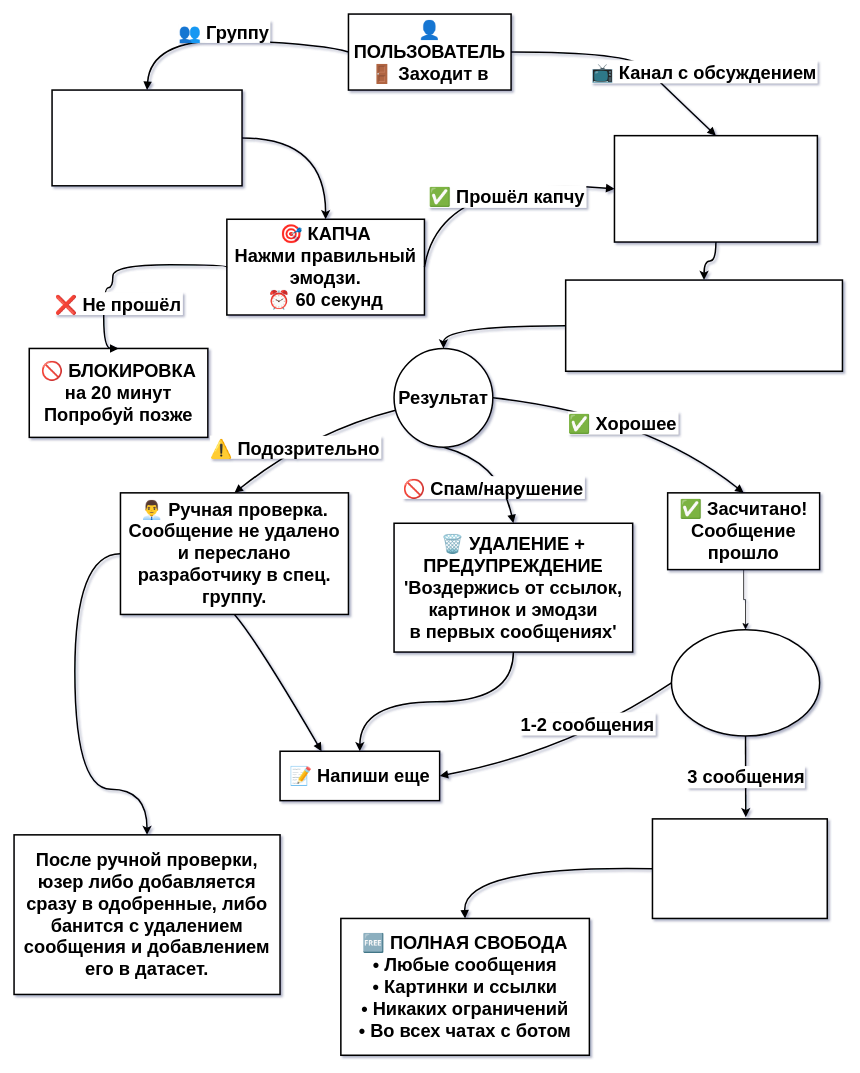
The diagram is 860 pixels wide and 1073 high, and some of its shapes have lost their labels. The box of each missing label's shape, as (x1, y1, x2, y2) in pixels:
Ожидание первых трех сообщений, без ссылок, картинок эмодзи и рекламы.: (613, 135, 818, 242)
Проверка по блэклистам и тихий бан известных спамеров.: (51, 89, 242, 186)
Сколько хороших сообщений?: (670, 629, 820, 736)
🎉 ОДОБРЕН! Теперь можешь писать всё что угодно: (651, 818, 828, 919)
🔍 Бот анализирует сообщение, LLM профиль и проверка на блэклист.: (565, 279, 843, 372)
